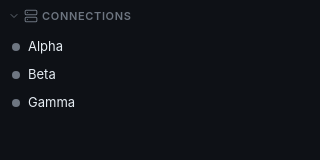
Scenario: reordering connections from the menu › disables Move Down on the last row
The image size is (320, 160).
Right-click the button "Gamma" at (44, 102), box [12,94,75,110]
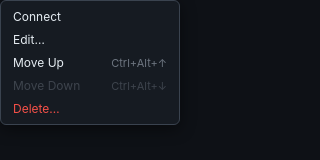
expect the menu item "Move Down Ctrl+Alt+↓" is disabled: met, box [5,74,175,97]
expect the menu item "Move Up Ctrl+Alt+↑" is enabled: met, box [5,51,175,74]
